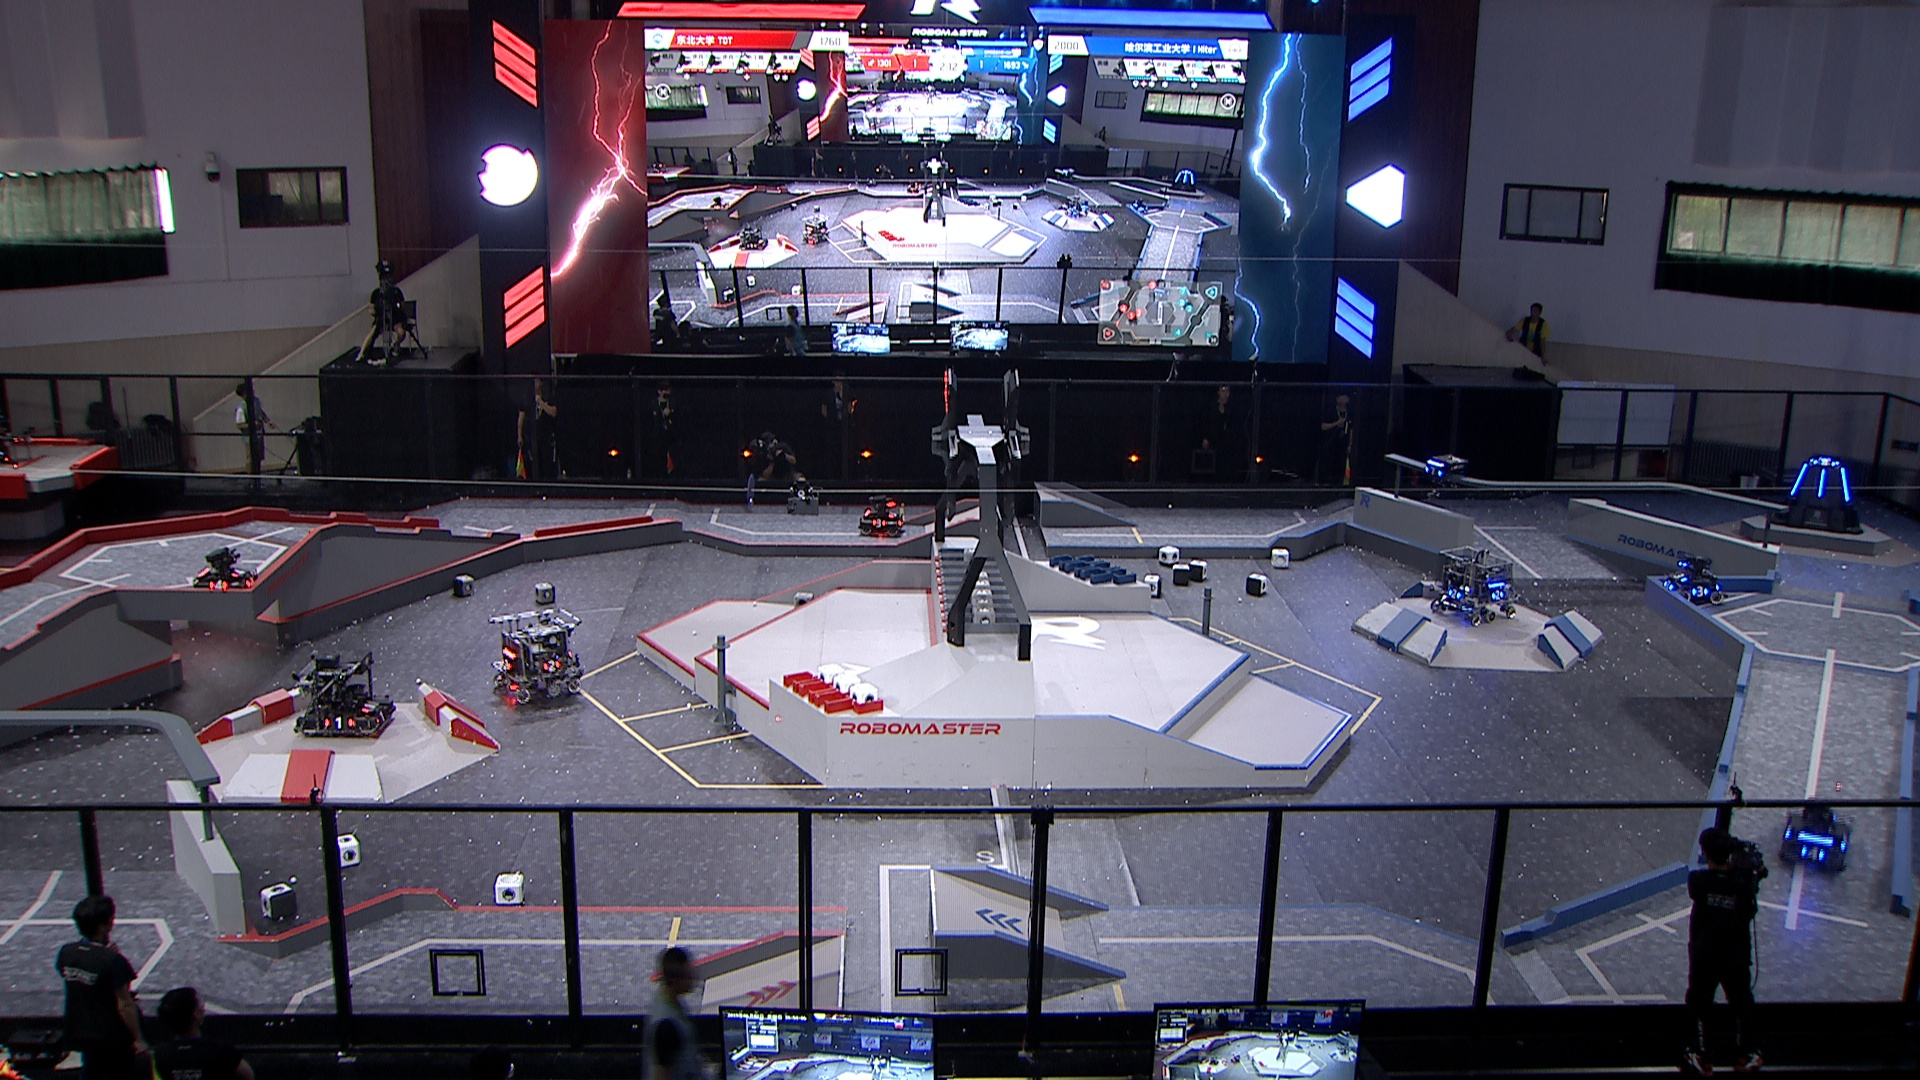armor: (1787, 462, 1811, 498), (1797, 843, 1826, 862), (320, 716, 356, 731), (1422, 462, 1447, 481), (356, 698, 380, 717), (1840, 463, 1851, 501), (1811, 455, 1840, 469), (1815, 467, 1828, 498), (537, 659, 562, 675), (371, 703, 386, 727), (240, 570, 258, 589), (1689, 582, 1709, 600), (1447, 585, 1466, 603), (207, 576, 229, 591), (1671, 570, 1691, 585), (229, 564, 251, 579), (1489, 585, 1506, 603), (498, 655, 513, 675), (1662, 578, 1680, 591), (870, 517, 889, 529), (884, 505, 898, 520)
base: (1768, 452, 1866, 541)
car: (484, 604, 585, 705), (291, 644, 396, 741), (1427, 543, 1520, 626), (1774, 804, 1855, 874), (189, 542, 262, 597), (1658, 556, 1727, 611), (855, 491, 909, 541)
ignore: (800, 211, 832, 248), (1166, 166, 1197, 196), (735, 225, 771, 251), (1060, 193, 1092, 222), (707, 195, 731, 211), (1133, 195, 1150, 216), (905, 177, 920, 193)
watcher: (1416, 448, 1470, 505)
